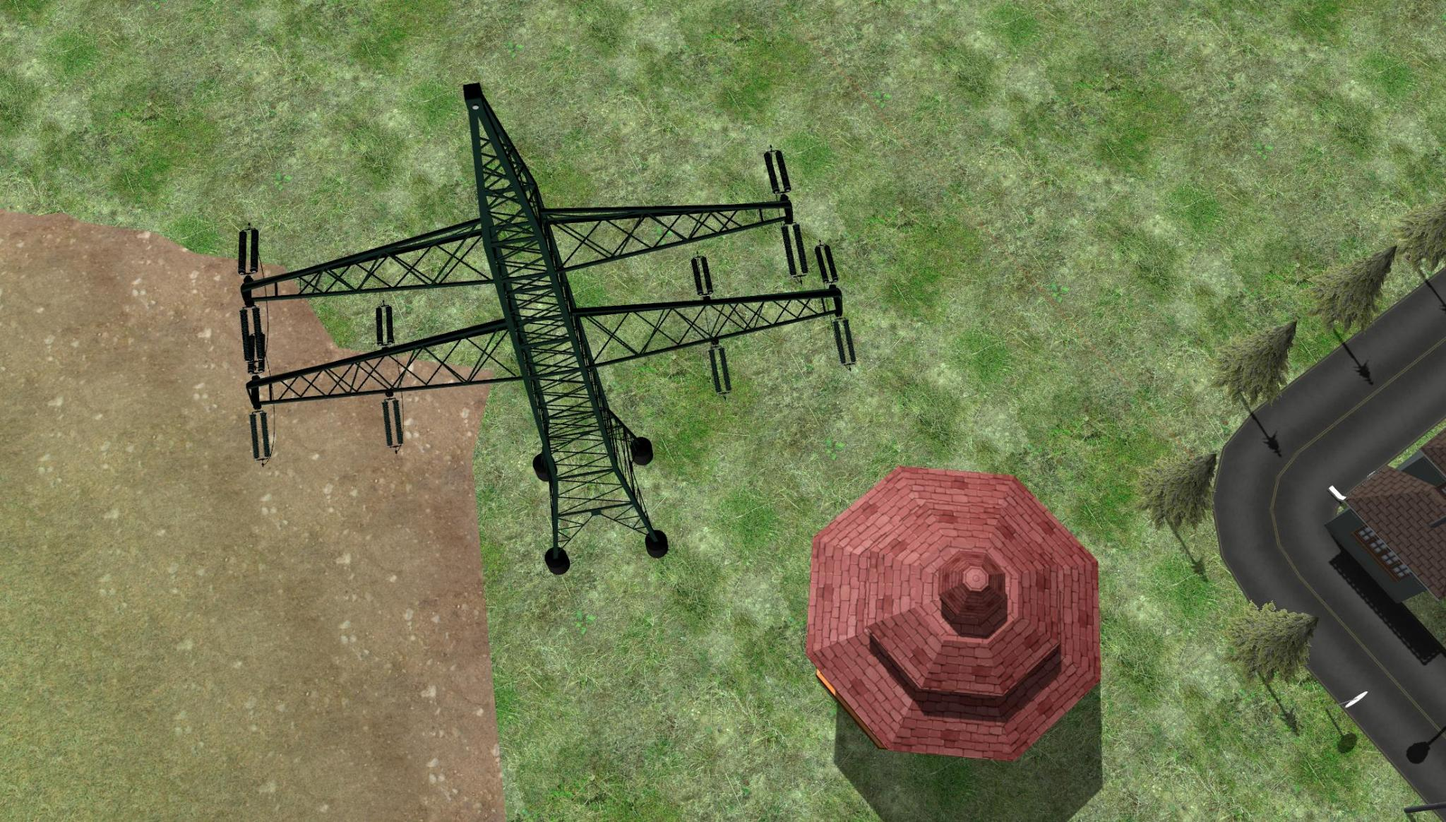tower: (200, 82, 843, 573)
